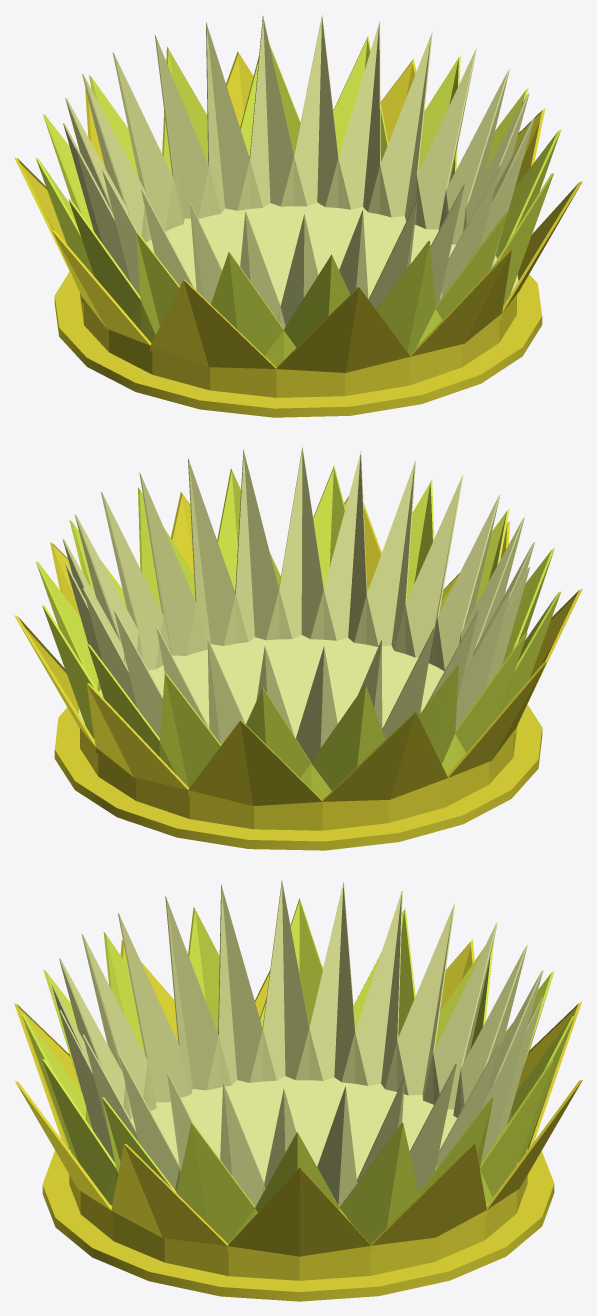
The model's file is portal_000003.obj.
The picture shows the model from 3 angles, top to bottom: view 1: azimuth 30°, elevation 25°; view 2: azimuth 150°, elevation 25°; view 3: azimuth 270°, elevation 25°; orthographic projection. The views are drawn at different scales.
Visible parts, largest first — view 1: Cylinder.001, pCylinder1, Cylinder; view 2: Cylinder.001, pCylinder1, Cylinder; view 3: Cylinder.001, pCylinder1, Cylinder.
Part boxes in pixels (x1=…): Cylinder.001: x1=63, y1=15, x2=534, y2=328; pCylinder1: x1=14, y1=51, x2=582, y2=417; Cylinder: x1=36, y1=36, x2=560, y2=367; Cylinder.001: x1=62, y1=446, x2=534, y2=761; pCylinder1: x1=14, y1=492, x2=582, y2=850; Cylinder: x1=36, y1=466, x2=560, y2=799; Cylinder.001: x1=51, y1=880, x2=543, y2=1206; pCylinder1: x1=14, y1=939, x2=582, y2=1301; Cylinder: x1=22, y1=898, x2=574, y2=1244.
Bounding box in the file's own units: 7.45 × 2.9 × 7.09.
3 materials, 3 textured.
